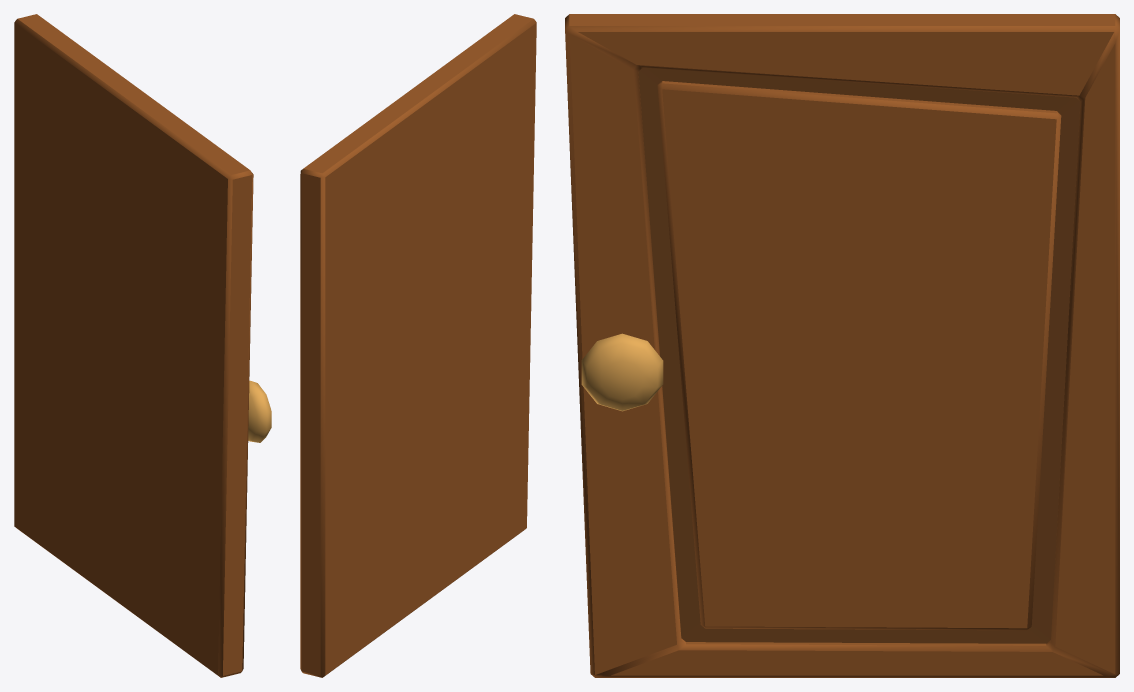
File: Computer_table1.fbx
3 renders of one model, left to right at view 1: azimuth 30°, elevation 25°; view 2: azimuth 150°, elevation 25°; view 3: azimuth 270°, elevation 25°, orthographic. The views are drawn at different scales.
Visible parts, largest first — view 1: Computer_table1; view 2: Computer_table1; view 3: Computer_table1.
Boxes of the visible parts, box(x1,y1,x2,y2) form: Computer_table1: box(14, 14, 271, 677); Computer_table1: box(300, 14, 536, 677); Computer_table1: box(565, 14, 1119, 677).
Bounding box in the file's own units: 0.0804 × 0.6793 × 0.5241.
